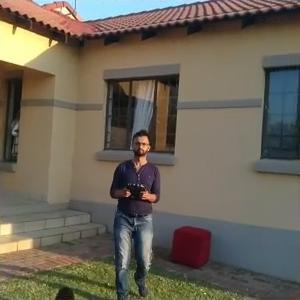follow: (104, 125, 164, 298)
